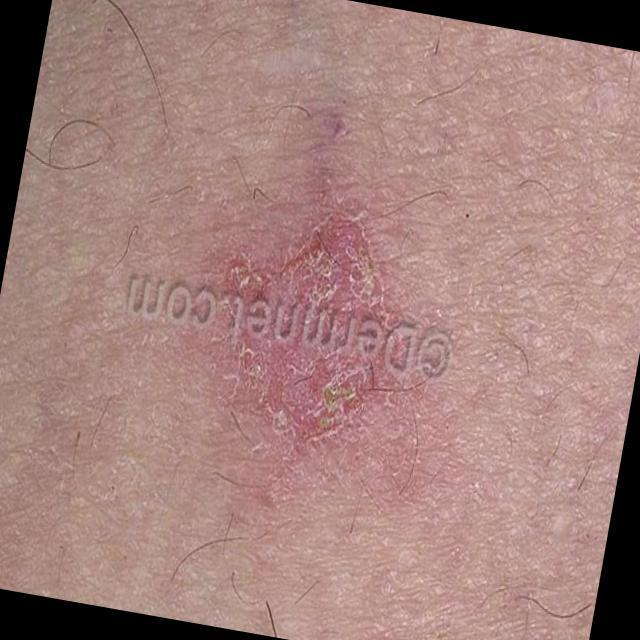Eczema: (191, 201, 394, 447)
